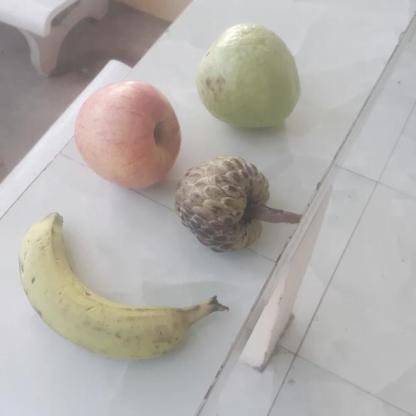annona: (175, 154, 277, 252)
apple: (69, 78, 184, 184)
banana: (21, 212, 218, 361)
guava: (202, 26, 302, 127)
